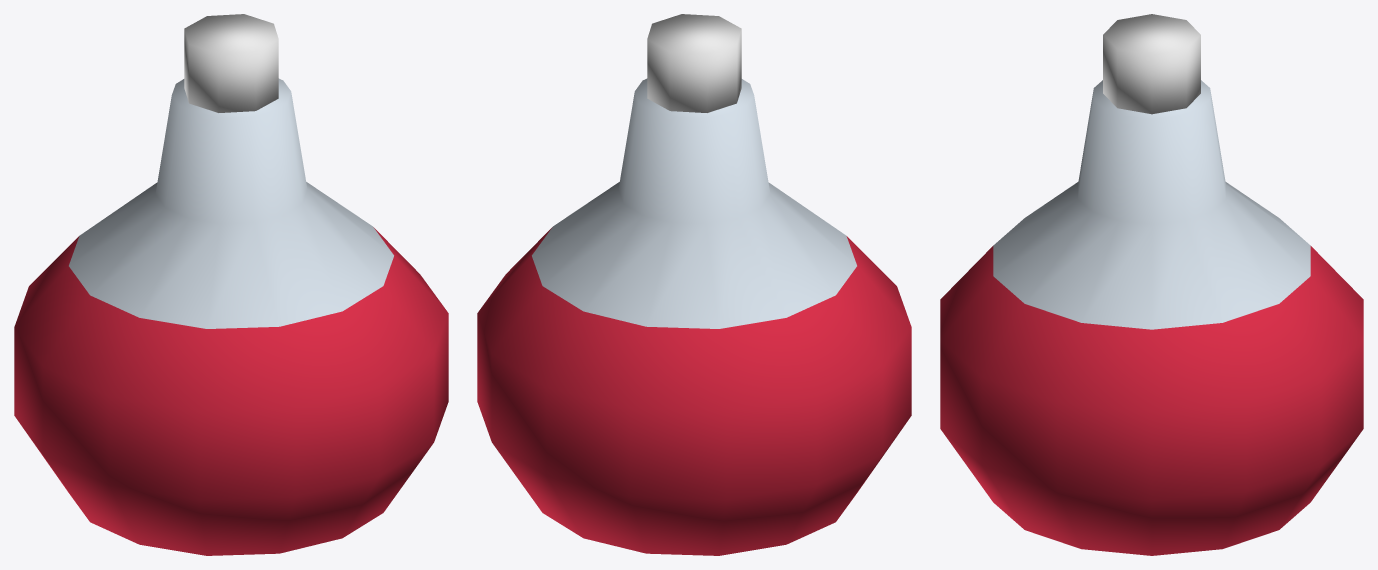
Rendered from lesser_healing_potion.glb.
3 renders of one model, left to right at view 1: azimuth 30°, elevation 25°; view 2: azimuth 150°, elevation 25°; view 3: azimuth 270°, elevation 25°, orthographic.
Visible parts, largest first — view 1: minor_restorative_v0; view 2: minor_restorative_v0; view 3: minor_restorative_v0.
Part boxes in pixels (left/top/right/bottom): minor_restorative_v0: left=14, top=14, right=448, bottom=555; minor_restorative_v0: left=477, top=14, right=911, bottom=555; minor_restorative_v0: left=940, top=14, right=1363, bottom=555.
Size of the model in its own units: 0.24 by 0.276 by 0.234.
